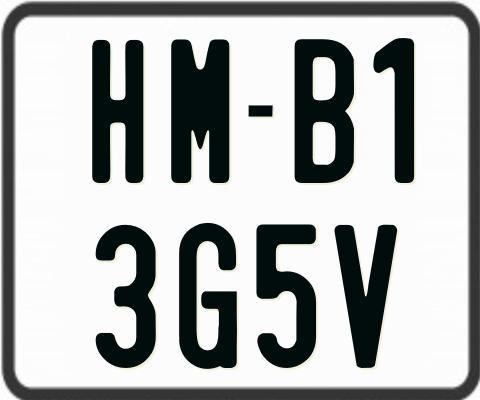1: (372, 35, 416, 186)
3: (93, 222, 153, 371)
5: (253, 223, 318, 369)
B: (292, 38, 354, 182)
G: (179, 223, 239, 371)
H: (90, 37, 141, 185)
M: (168, 38, 232, 186)
V: (332, 225, 394, 372)
